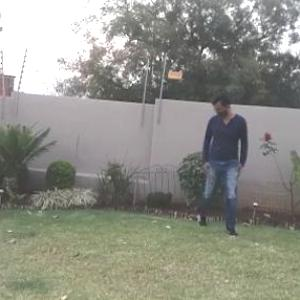follow: (204, 89, 251, 238)
